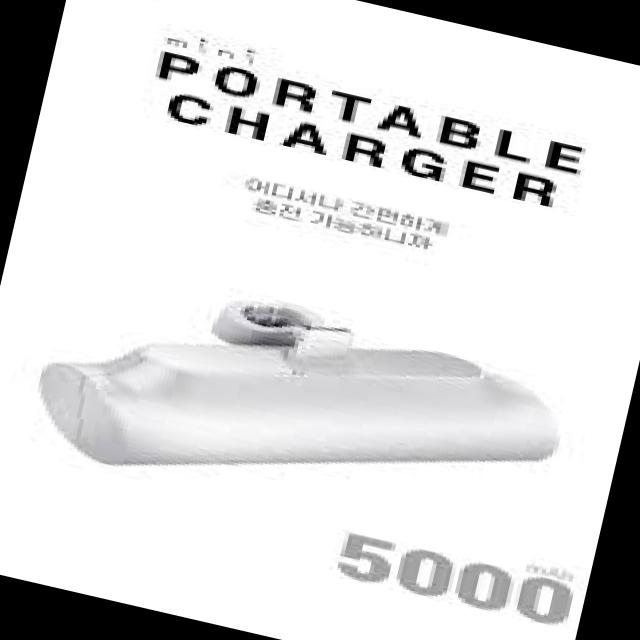portable-charger: (22, 250, 580, 568)
